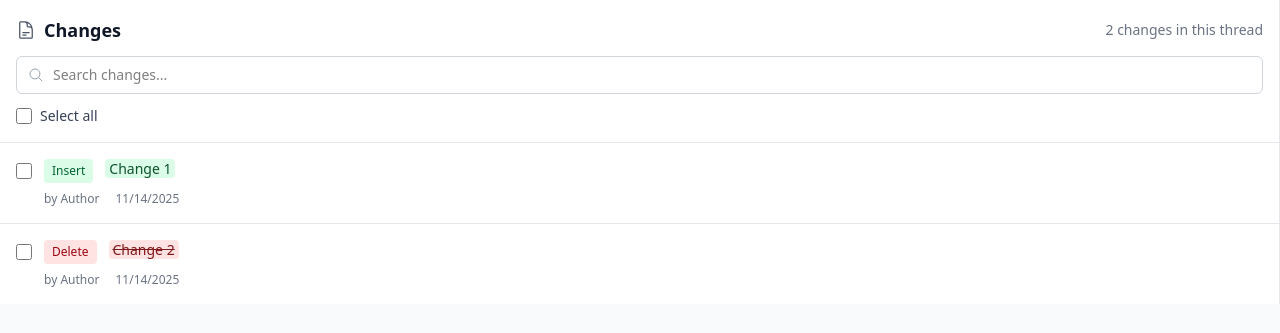
ChangeListPanel › Move to Thread Operation › displays move to dropdown with other threads
Select a change
What coordinates should you click on to do the following:
click the checkbox next to "Insert"
I would click on:
 (24, 171)
Its box is [16,163,32,179].
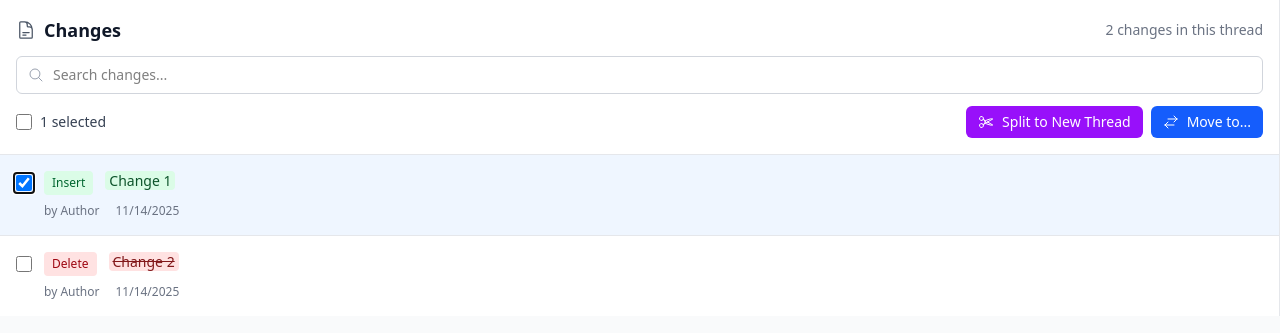
Click Move to... button
What coordinates should you click on to do the following:
click the button "Move to..."
I would click on:
 (1207, 122)
Its box is [1151,106,1263,138].
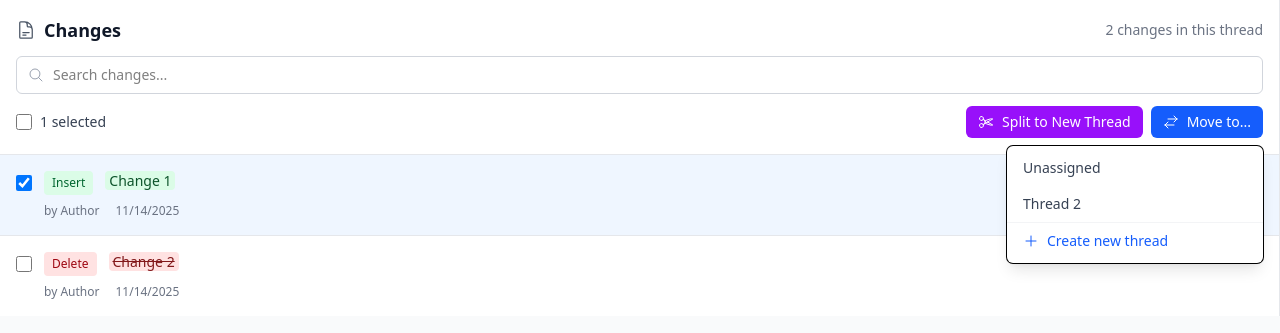
Now the menu item "Unassigned" is shown, box [1007,150,1263,186]
Now the menu item "Thread 2" is shown, box [1007,186,1263,222]
